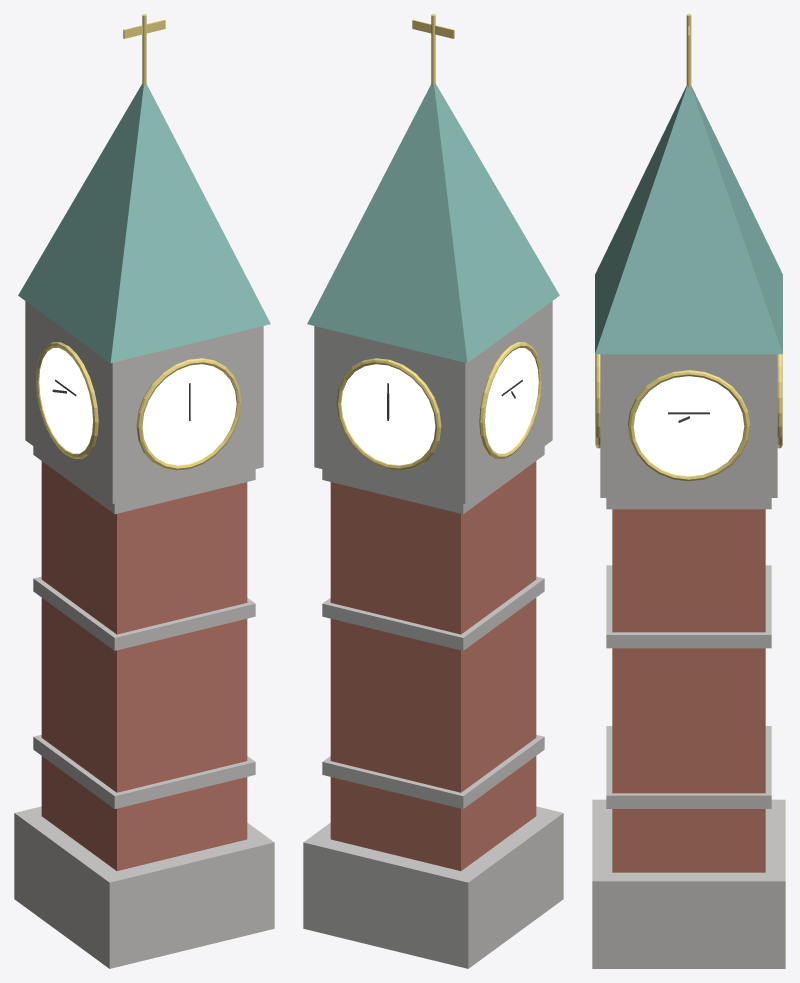
File: station_clocktower.glb
The picture shows the model from 3 angles, left to right: view 1: azimuth 30°, elevation 25°; view 2: azimuth 150°, elevation 25°; view 3: azimuth 270°, elevation 25°; orthographic projection.
Parts seen in each view (by area): view 1: TowerShaft, TowerSpire, TowerBase, ClockChamber, ClockSouth_Dial, ClockWest_Dial, Cube.001, Cube, Cube.002, ClockSouth_Bezel, ClockWest_Bezel; view 2: TowerShaft, TowerSpire, TowerBase, ClockChamber, ClockNorth_Dial, ClockWest_Dial, Cube.001, Cube, Cube.002, ClockNorth_Bezel, ClockWest_Bezel; view 3: TowerShaft, TowerSpire, TowerBase, ClockChamber, ClockEast_Dial, Cube.001, Cube, ClockEast_Bezel, Cube.002, ClockNorth_Bezel, ClockSouth_Bezel.
Part boxes in pixels (bbox=[...]): TowerShaft: bbox=[41, 461, 247, 870]; TowerSpire: bbox=[18, 84, 270, 363]; TowerBase: bbox=[14, 806, 274, 968]; ClockChamber: bbox=[25, 301, 263, 503]; ClockSouth_Dial: bbox=[142, 364, 236, 465]; ClockWest_Dial: bbox=[39, 348, 92, 453]; Cube.001: bbox=[33, 576, 255, 650]; Cube: bbox=[33, 735, 255, 808]; Cube.002: bbox=[33, 446, 255, 514]; ClockSouth_Bezel: bbox=[136, 358, 241, 470]; ClockWest_Bezel: bbox=[36, 342, 98, 458]; TowerShaft: bbox=[330, 461, 536, 870]; TowerSpire: bbox=[307, 84, 559, 363]; TowerBase: bbox=[303, 806, 563, 968]; ClockChamber: bbox=[314, 301, 552, 503]; ClockNorth_Dial: bbox=[341, 364, 435, 465]; ClockWest_Dial: bbox=[485, 348, 538, 453]; Cube.001: bbox=[322, 576, 544, 650]; Cube: bbox=[322, 735, 544, 808]; Cube.002: bbox=[322, 446, 544, 514]; ClockNorth_Bezel: bbox=[336, 358, 441, 470]; ClockWest_Bezel: bbox=[479, 342, 541, 458]; TowerShaft: bbox=[612, 509, 765, 872]; TowerSpire: bbox=[595, 86, 782, 354]; TowerBase: bbox=[592, 799, 785, 968]; ClockChamber: bbox=[600, 354, 777, 497]; ClockEast_Dial: bbox=[633, 376, 744, 476]; Cube.001: bbox=[606, 565, 771, 648]; Cube: bbox=[606, 726, 771, 808]; ClockEast_Bezel: bbox=[627, 370, 750, 481]; Cube.002: bbox=[606, 498, 771, 509]; ClockNorth_Bezel: bbox=[777, 354, 782, 448]; ClockSouth_Bezel: bbox=[595, 354, 600, 448].
Size of the model in its own units: 2.53 by 12.5 by 2.4.
